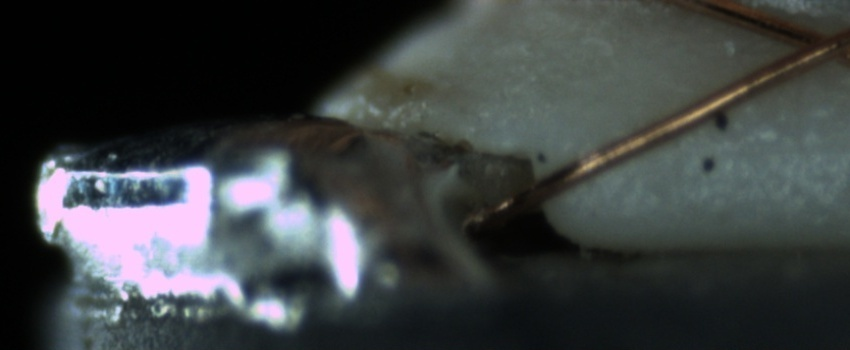CL: (767, 10, 849, 76)
DL: (694, 115, 850, 175)
